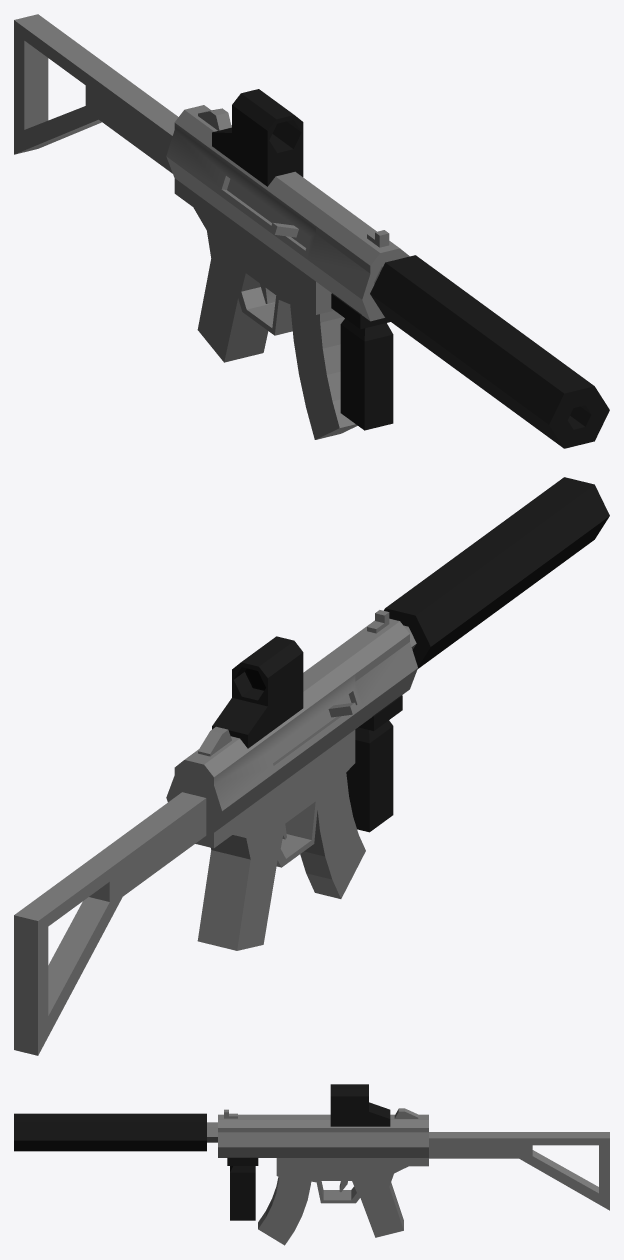
The picture shows the model from 3 angles, top to bottom: view 1: azimuth 30°, elevation 25°; view 2: azimuth 150°, elevation 25°; view 3: azimuth 270°, elevation 25°; orthographic projection. The views are drawn at different scales.
Parts seen in each view (by area): view 1: SMG_Body, SMG_Suppressor, SMG_Stock, VerticalGrip, SMG_Sight, SMG_Magazine; view 2: SMG_Body, SMG_Stock, SMG_Suppressor, SMG_Sight, VerticalGrip, SMG_Magazine; view 3: SMG_Body, SMG_Suppressor, SMG_Stock, SMG_Magazine, SMG_Sight, VerticalGrip.
Part boxes in pixels (left/top/right/bottom): SMG_Body: left=166, top=105, right=409, bottom=362; SMG_Suppressor: left=370, top=255, right=609, bottom=448; SMG_Stock: left=14, top=14, right=178, bottom=173; VerticalGrip: left=331, top=293, right=393, bottom=430; SMG_Sight: left=212, top=89, right=303, bottom=186; SMG_Magazine: left=290, top=304, right=357, bottom=439; SMG_Body: left=166, top=610, right=417, bottom=950; SMG_Stock: left=14, top=792, right=206, bottom=1055; SMG_Suppressor: left=384, top=477, right=609, bottom=668; SMG_Sight: left=212, top=636, right=303, bottom=748; VerticalGrip: left=346, top=695, right=402, bottom=832; SMG_Magazine: left=300, top=773, right=365, bottom=898; SMG_Body: left=218, top=1108, right=428, bottom=1237; SMG_Suppressor: left=14, top=1113, right=206, bottom=1151; SMG_Stock: left=429, top=1132, right=609, bottom=1210; SMG_Magazine: left=258, top=1176, right=311, bottom=1245; SMG_Sight: left=330, top=1084, right=390, bottom=1126; VerticalGrip: left=227, top=1157, right=258, bottom=1220.
Bounding box in the file's own units: 0.0367 × 0.1407 × 0.489.
Materials: 3 (3 with a texture image).
